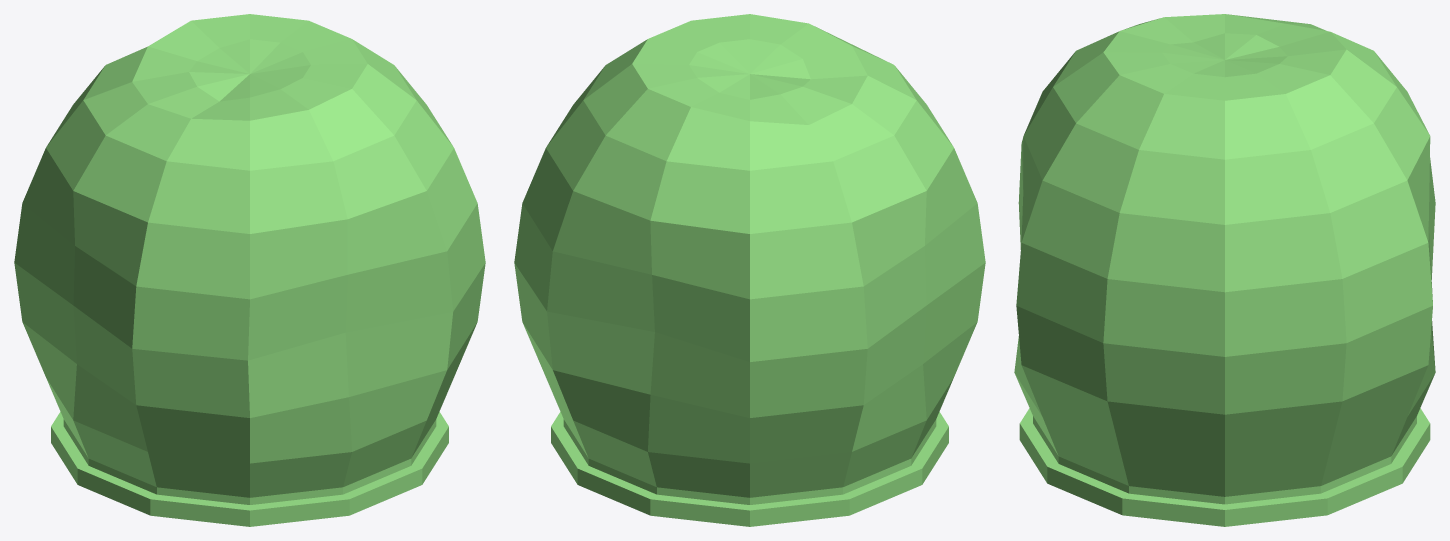
3 renders of one model, left to right at view 1: azimuth 30°, elevation 25°; view 2: azimuth 150°, elevation 25°; view 3: azimuth 270°, elevation 25°, orthographic. The views are drawn at different scales.
Visible parts, largest first — view 1: polySurface1; view 2: polySurface1; view 3: polySurface1.
Part boxes in pixels (box(x1,y1,x2,y2)): polySurface1: box(14, 14, 485, 526); polySurface1: box(514, 14, 985, 526); polySurface1: box(1014, 14, 1435, 526).
Size of the model in its own units: 11.65 by 11.41 by 10.83.
